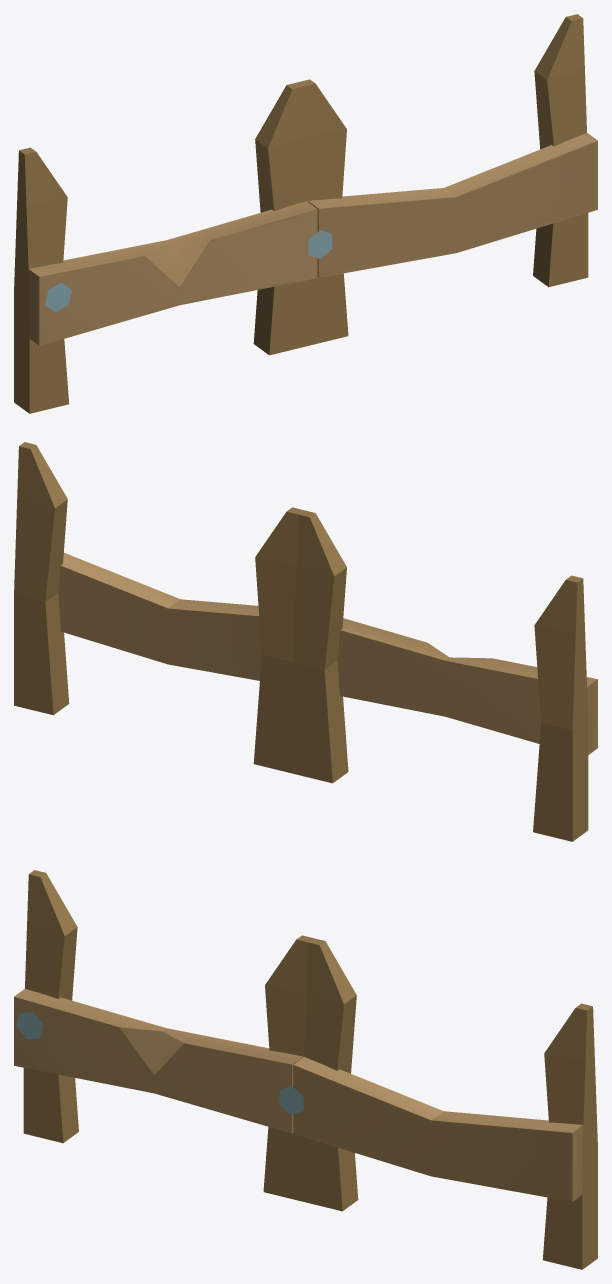
The model's file is Cit3.fbx.
3 views of the same model, one above another, from view 1: azimuth 30°, elevation 25°; view 2: azimuth 150°, elevation 25°; view 3: azimuth 330°, elevation 25° (orthographic).
Parts seen in each view (by area): view 1: Cit3; view 2: Cit3; view 3: Cit3.
Boxes of the visible parts, x1,y1,x2,y2 form: Cit3: (14, 14, 597, 413); Cit3: (14, 442, 597, 841); Cit3: (14, 870, 597, 1269).
Bounding box in the file's own units: 160 × 70 × 13.46.
Materials: 1 (1 with a texture image).
